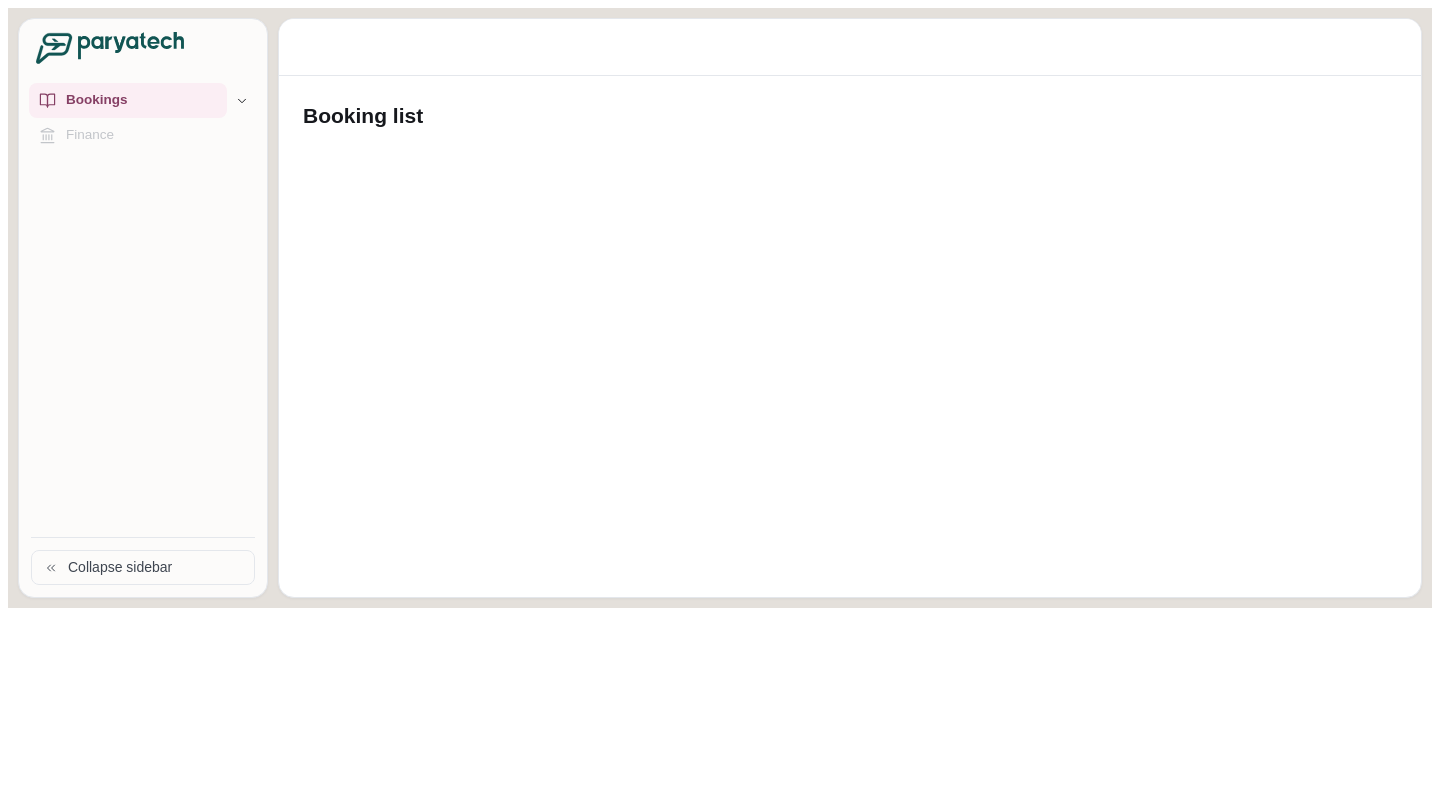
Test: application shell › collapses the sidebar, preserves its accessible navigation, and supports embedded landmarks
Expected: the element named "Workspace" is shown, [303,104,423,127]
Click the button "Collapse sidebar". click: (143, 568)
box: [31,550,255,585]
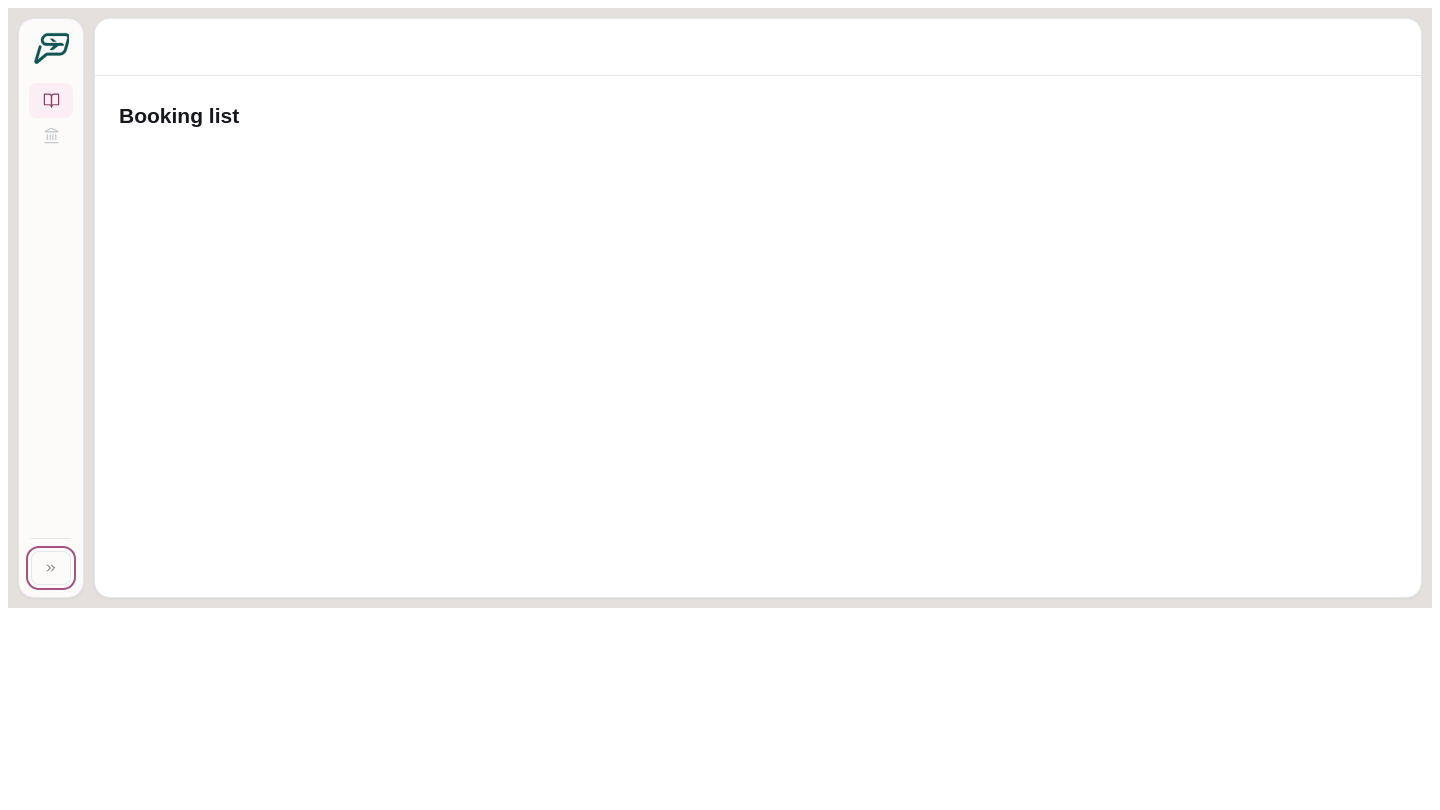
Expected: the button named "Bookings" is shown, [29,83,73,118]
Result: the button named "Expand sidebar" is shown at [31,551,71,585]
